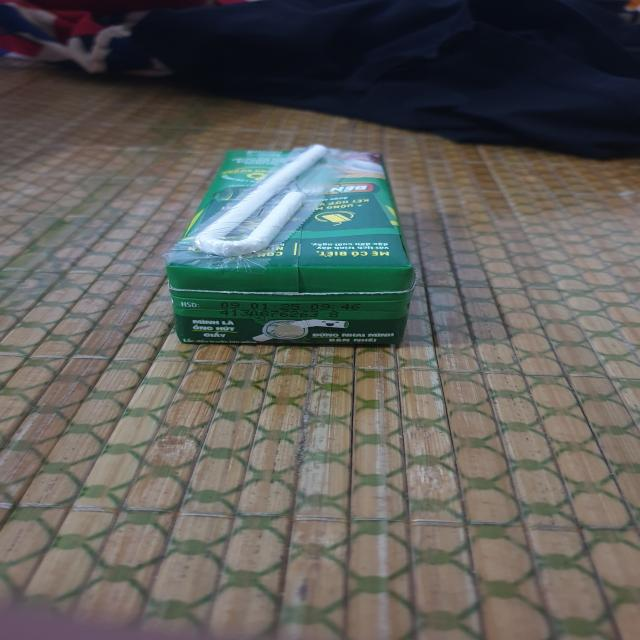Milo: (167, 141, 416, 342)
